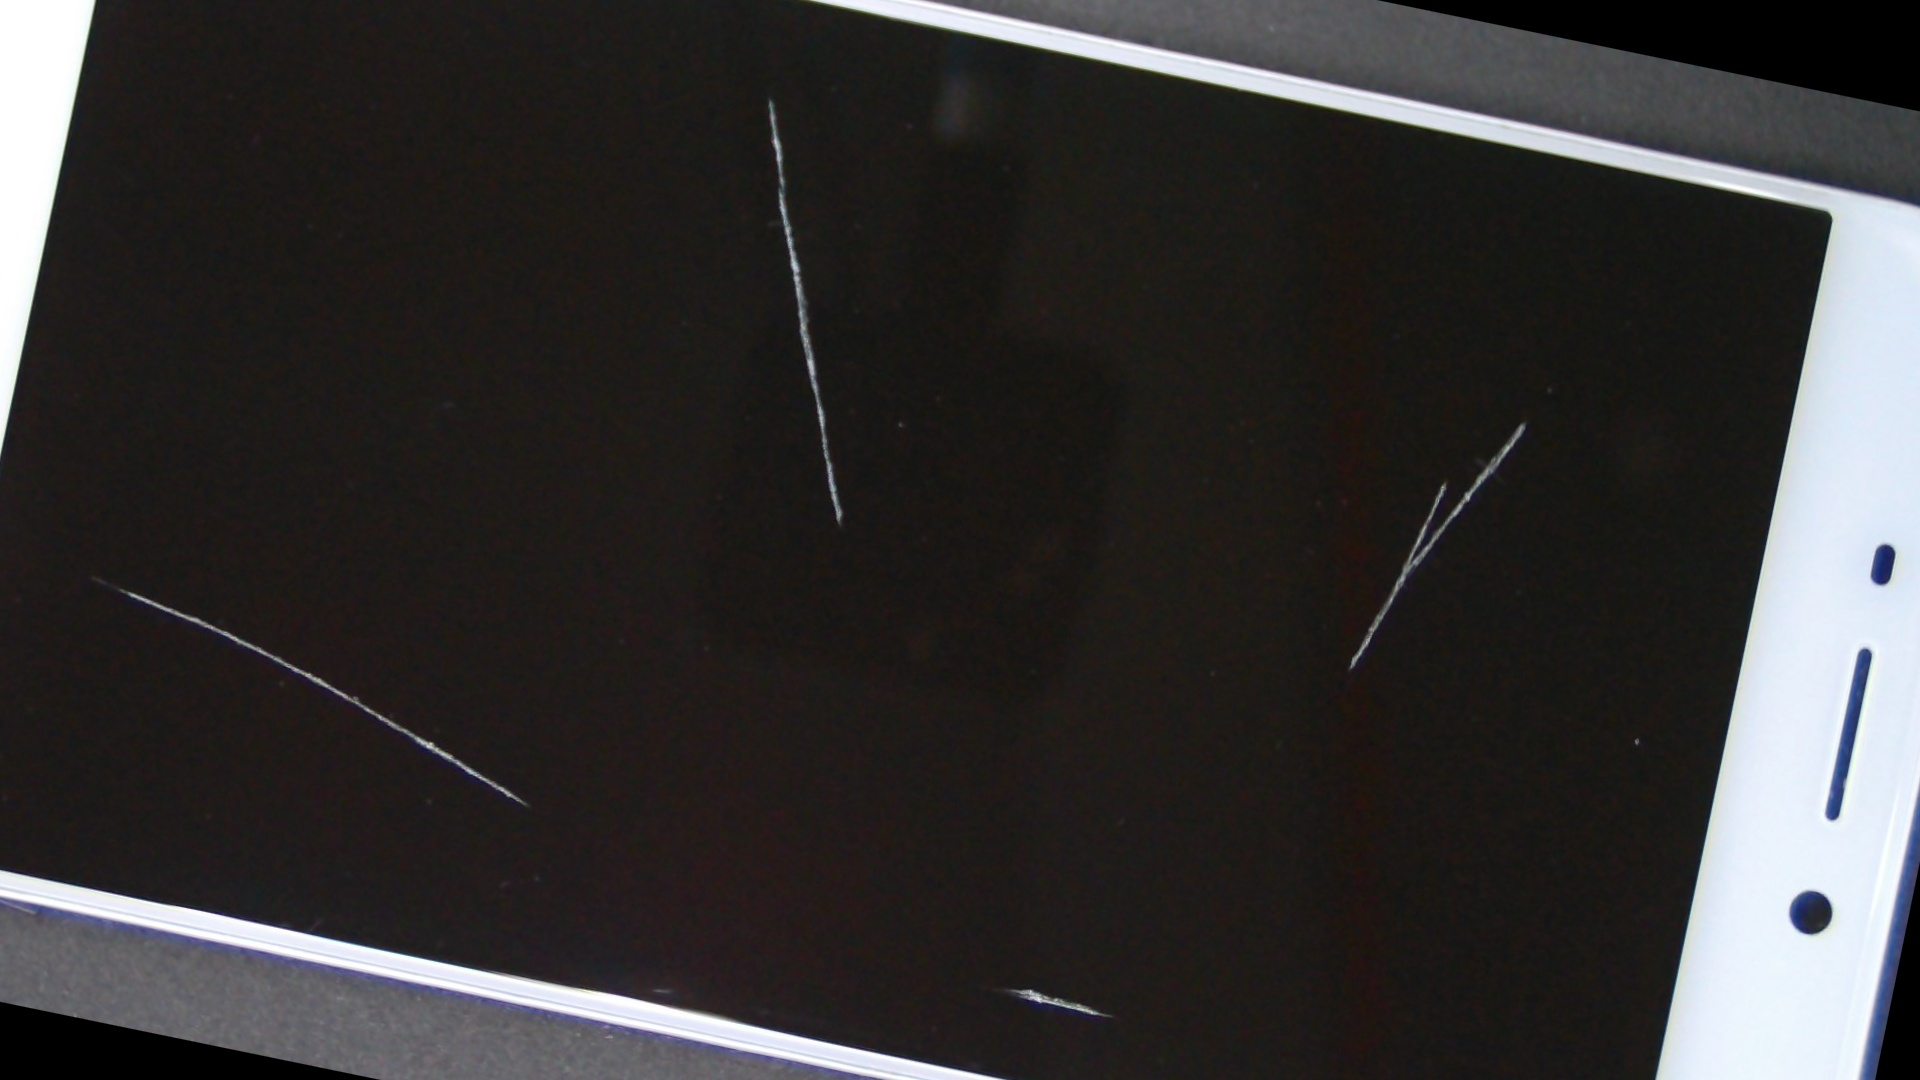oil: (335, 345, 1789, 1080), (651, 62, 1920, 705), (0, 137, 335, 1011), (307, 0, 1232, 295)
